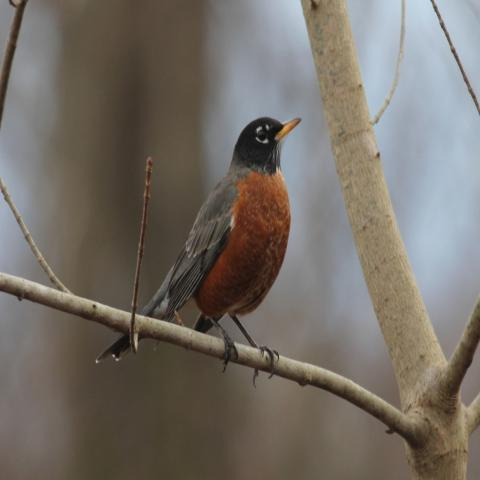bird: (94, 113, 303, 386)
